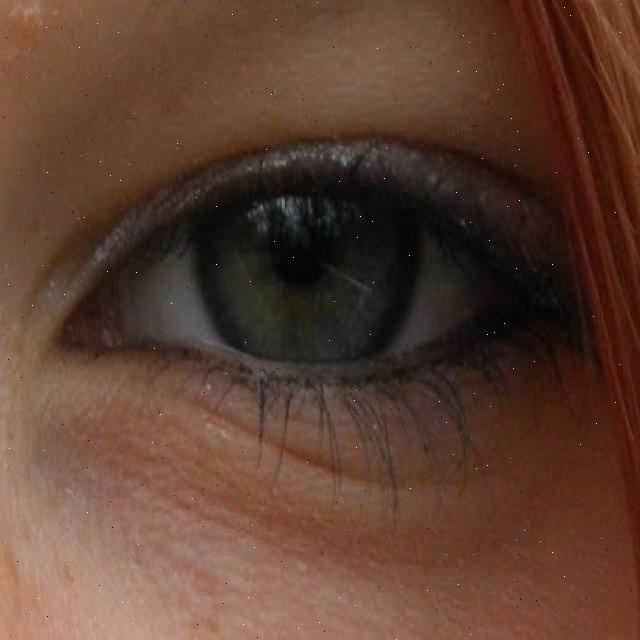Normal: (184, 100, 430, 410)
